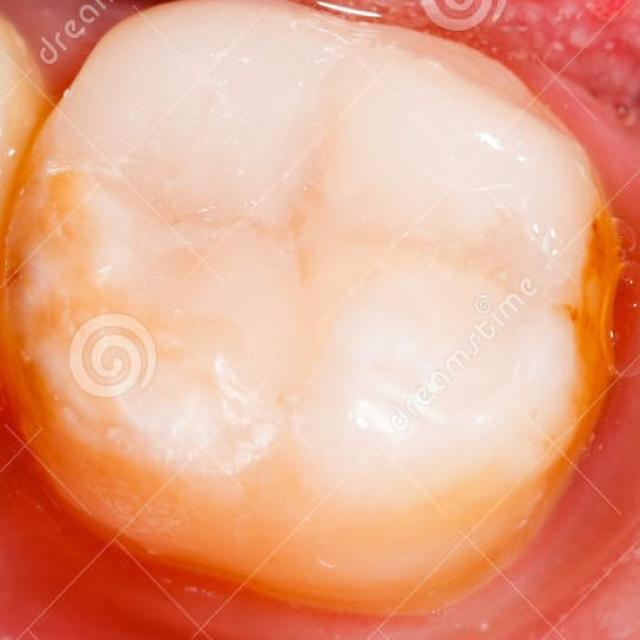Carrier: (3, 150, 97, 457), (574, 205, 624, 417)
